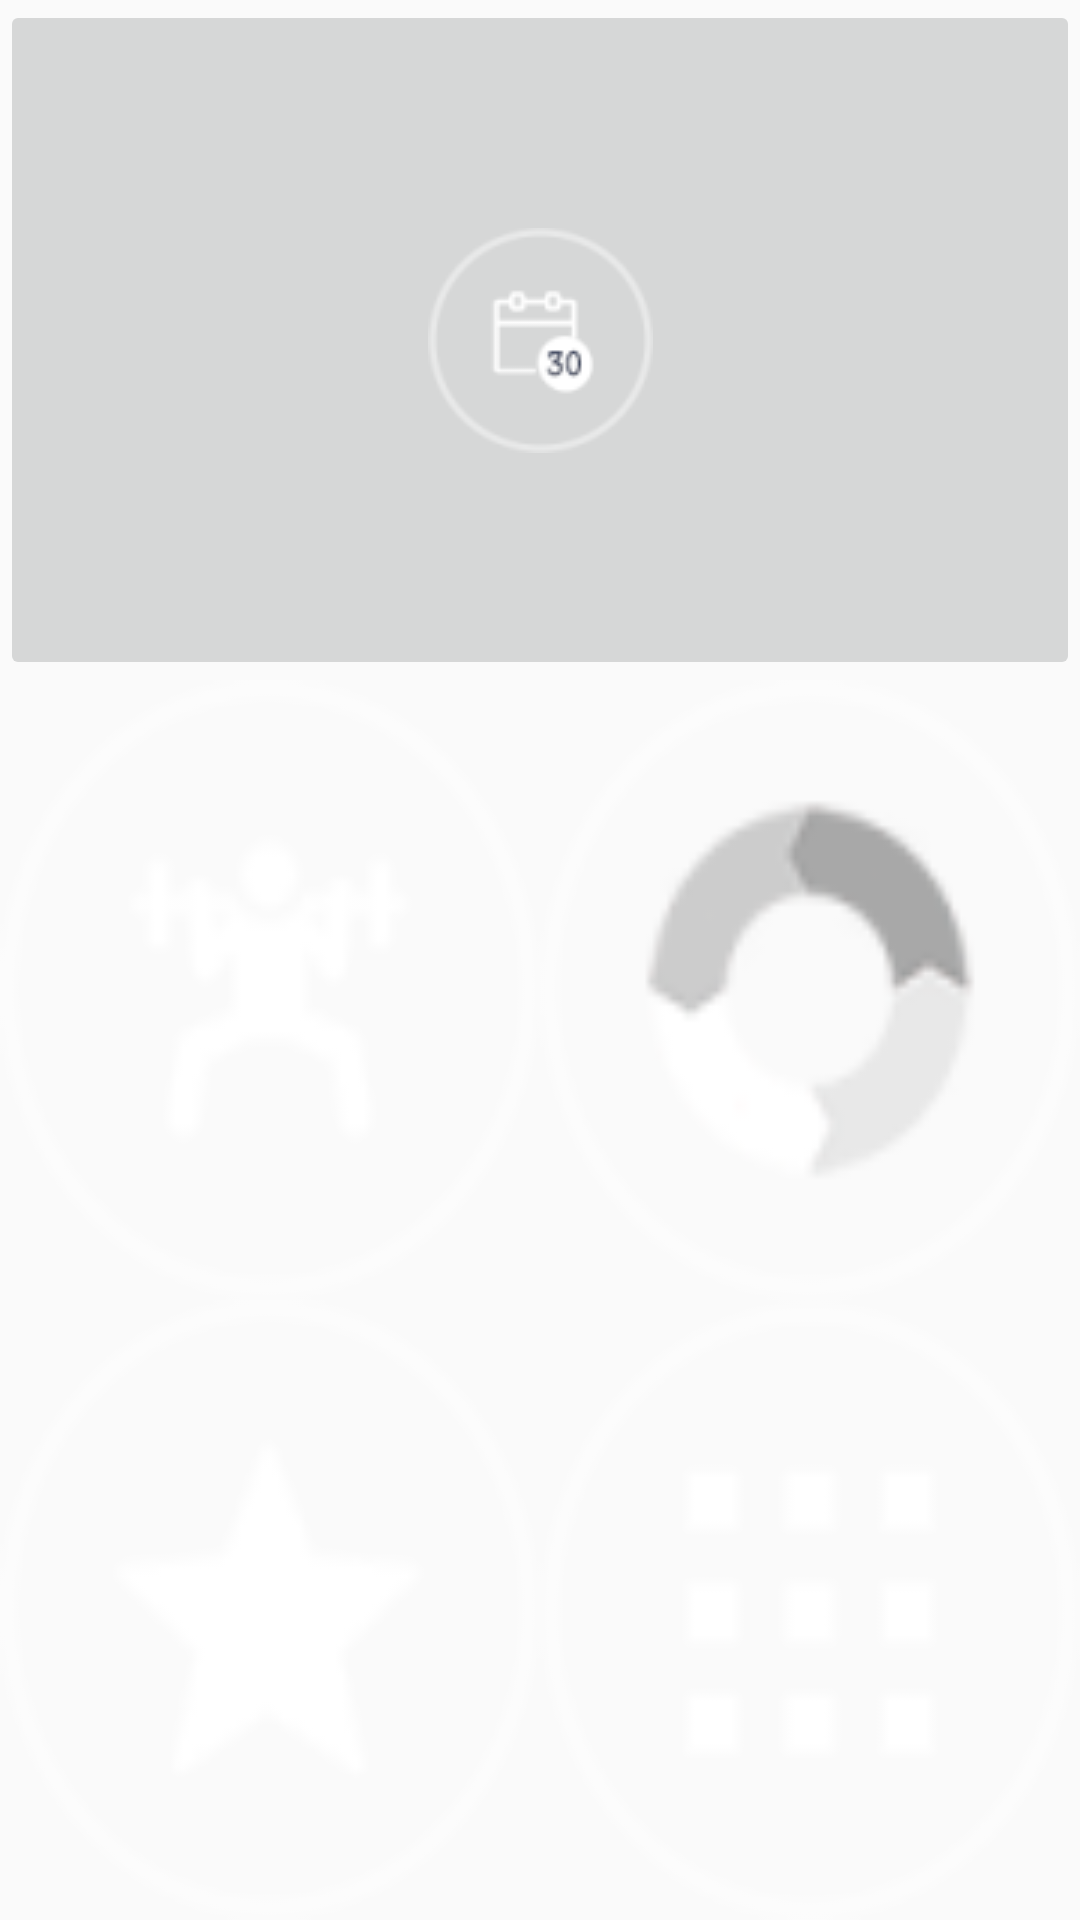

Icon click points for this 1080w x 1920h phone screenshot, format [x,y]:
progress: [810,908]
